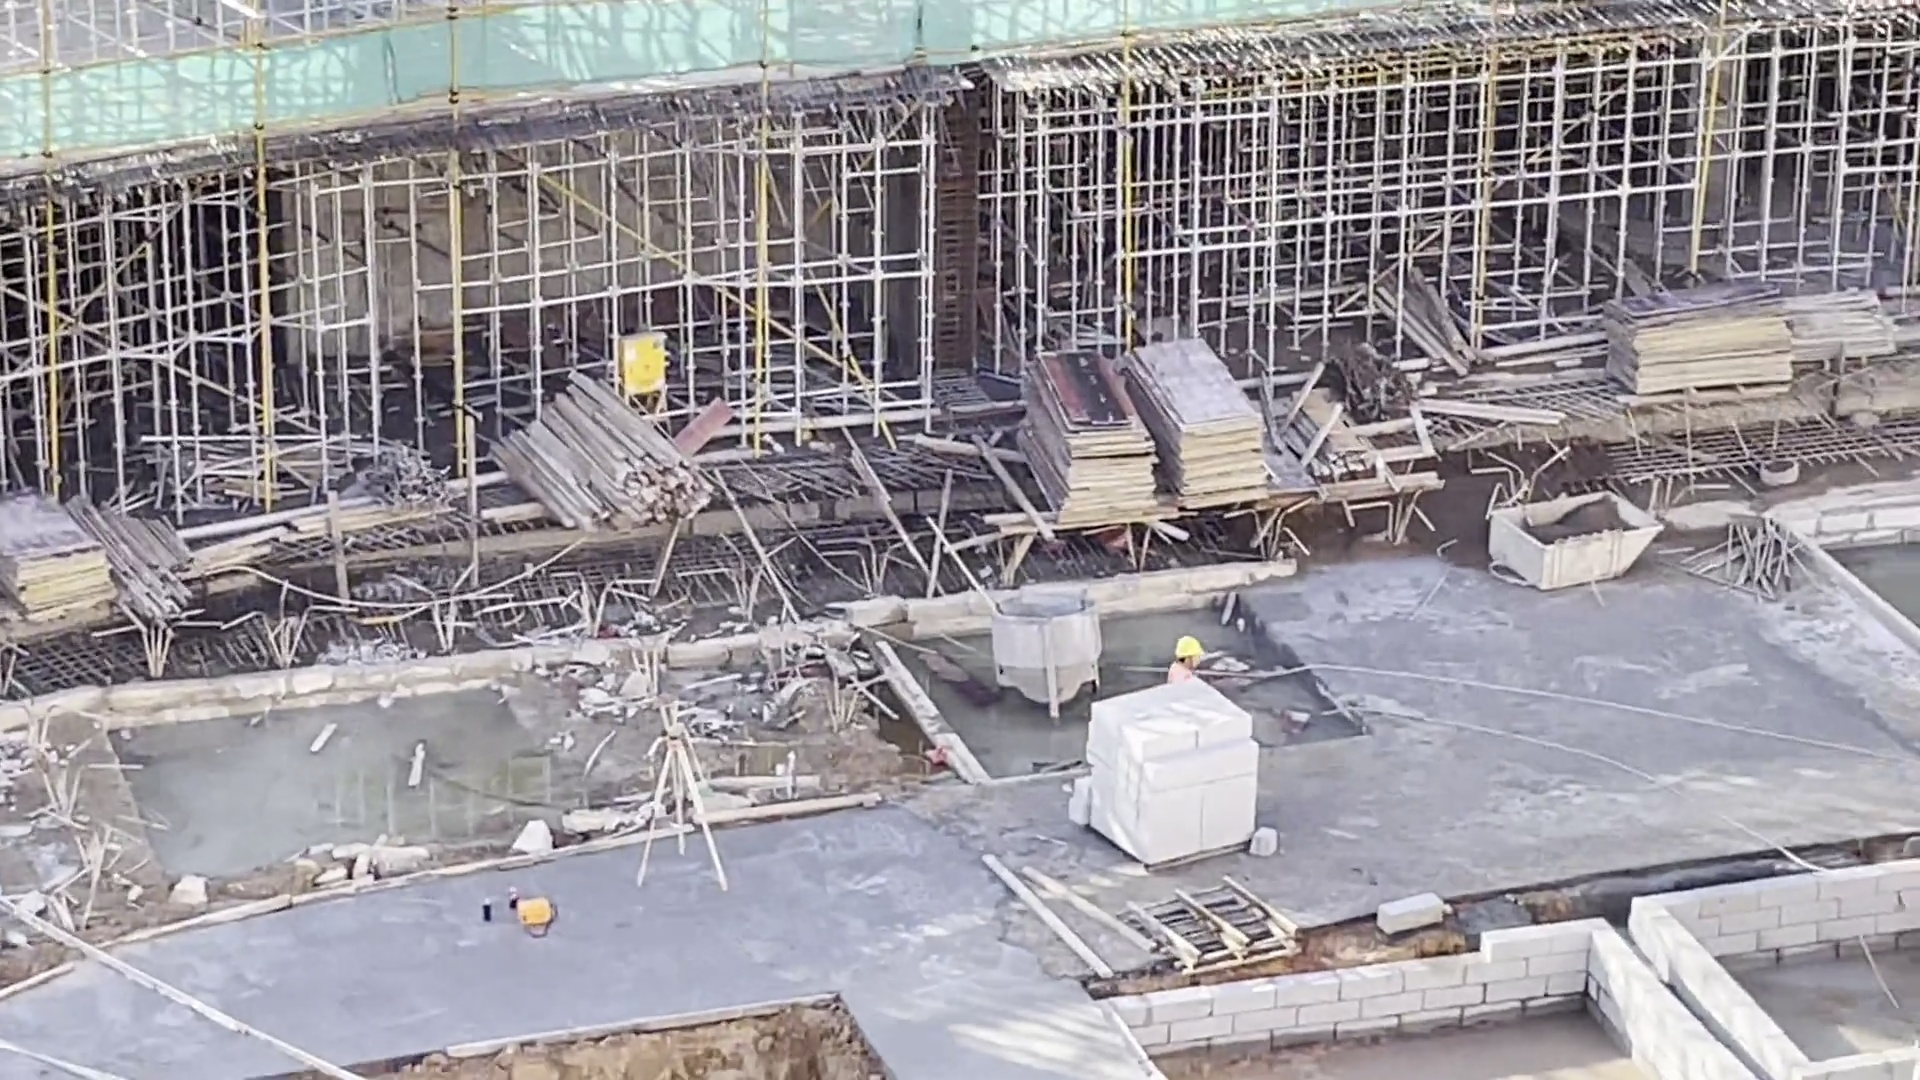board: (1007, 342, 1166, 534), (1132, 328, 1278, 502), (1604, 279, 1801, 400), (4, 487, 128, 638)
brick: (1083, 690, 1261, 874)
ebox: (619, 323, 669, 404)
helmet: (1173, 636, 1203, 659)
hopper: (1478, 487, 1673, 594), (981, 585, 1103, 723)
person: (1166, 632, 1202, 681)
wood: (489, 371, 715, 535), (117, 502, 193, 627)
